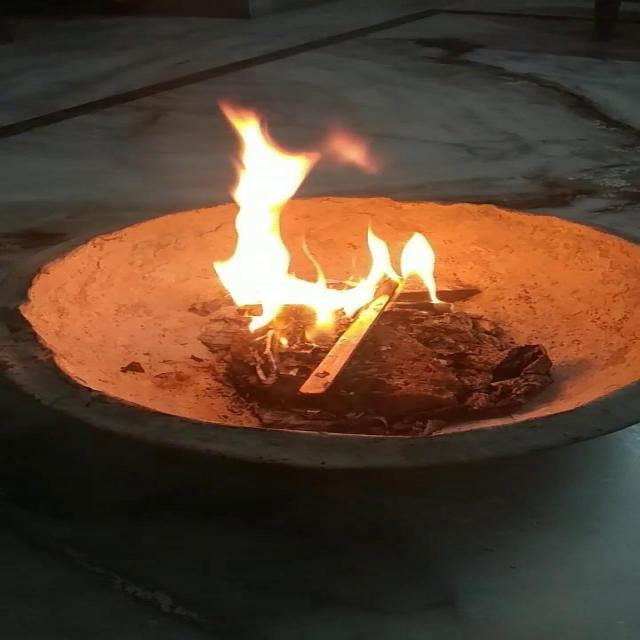fire: (174, 94, 452, 339)
